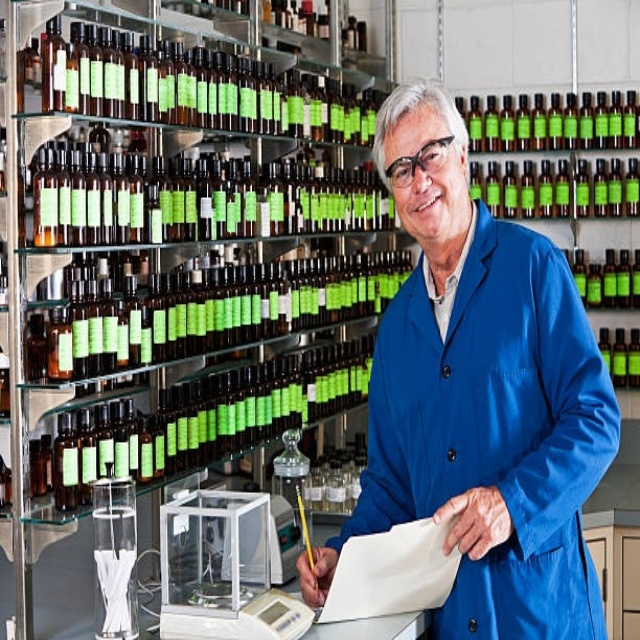Gafas: (386, 136, 456, 189)
Sin_guantes: (431, 484, 510, 561), (296, 543, 338, 609)
Sin_mascara: (407, 193, 448, 234)
